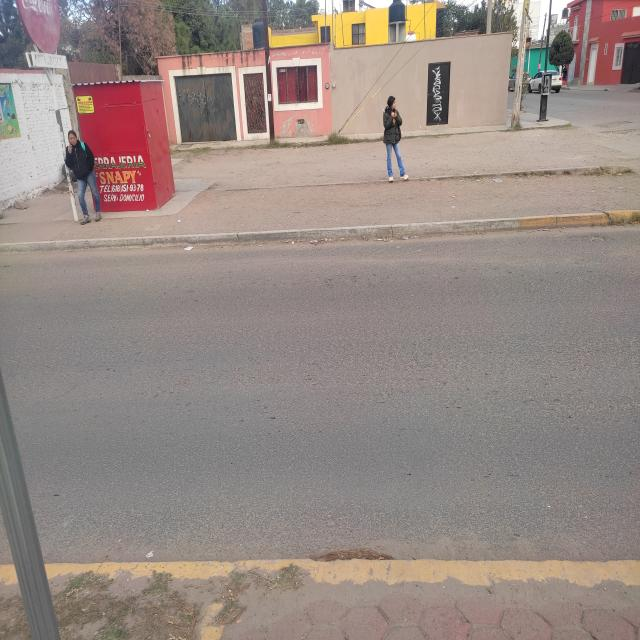3: (52, 127, 119, 232), (372, 90, 411, 190)
Auto: (528, 62, 568, 106)
